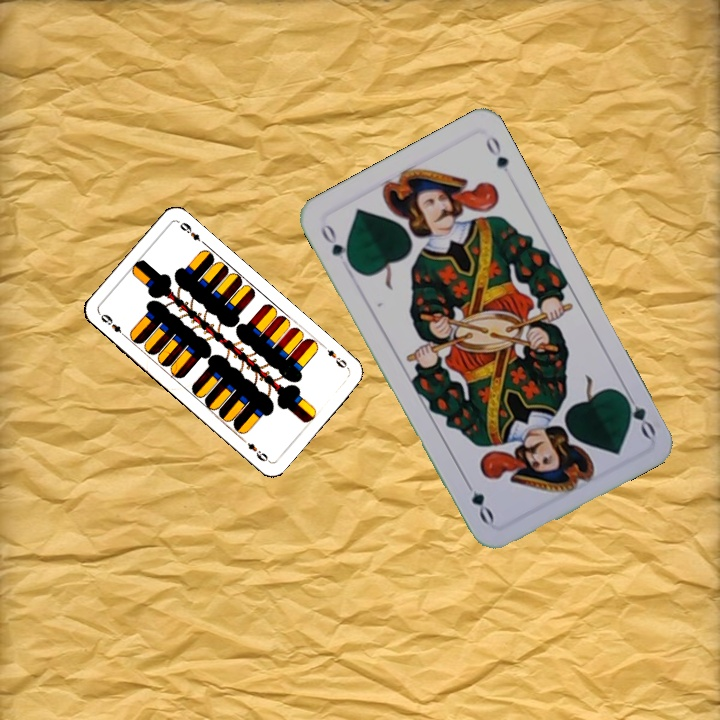E9: (96, 309, 129, 340), (318, 341, 351, 372)
GO: (616, 385, 659, 441), (316, 219, 356, 271)
